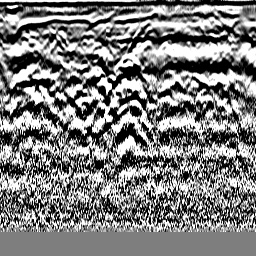cavity: (114, 52, 143, 76)
